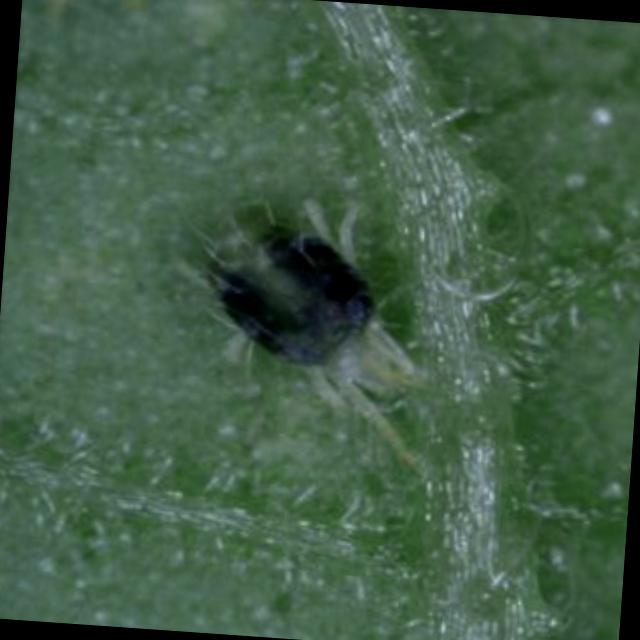spider mite: (144, 157, 495, 491)
